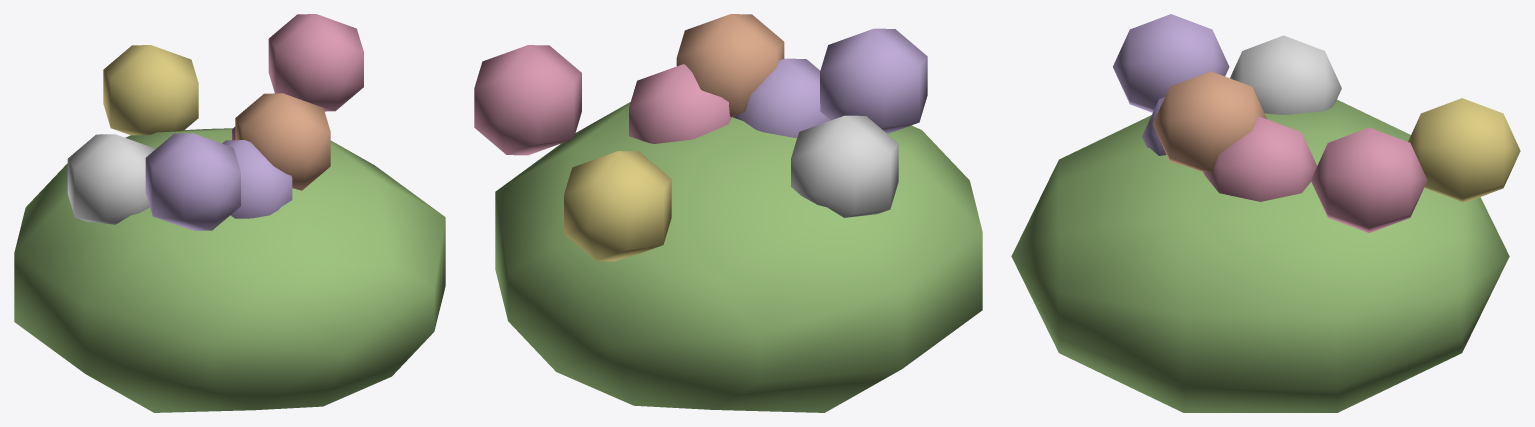
The model's file is flower_clump.glb.
3 views of the same model, side by side, from view 1: azimuth 30°, elevation 25°; view 2: azimuth 150°, elevation 25°; view 3: azimuth 270°, elevation 25° (orthographic). The views are drawn at different scales.
Visible parts, largest first — view 1: Flower_Clump_Clump; view 2: Flower_Clump_Clump; view 3: Flower_Clump_Clump.
Part boxes in pixels (x1,y1,x2,y2): Flower_Clump_Clump: [14, 14, 445, 412]; Flower_Clump_Clump: [474, 14, 982, 412]; Flower_Clump_Clump: [1011, 14, 1520, 412].
Size of the model in its own units: 0.5789 by 0.4562 by 0.654.
